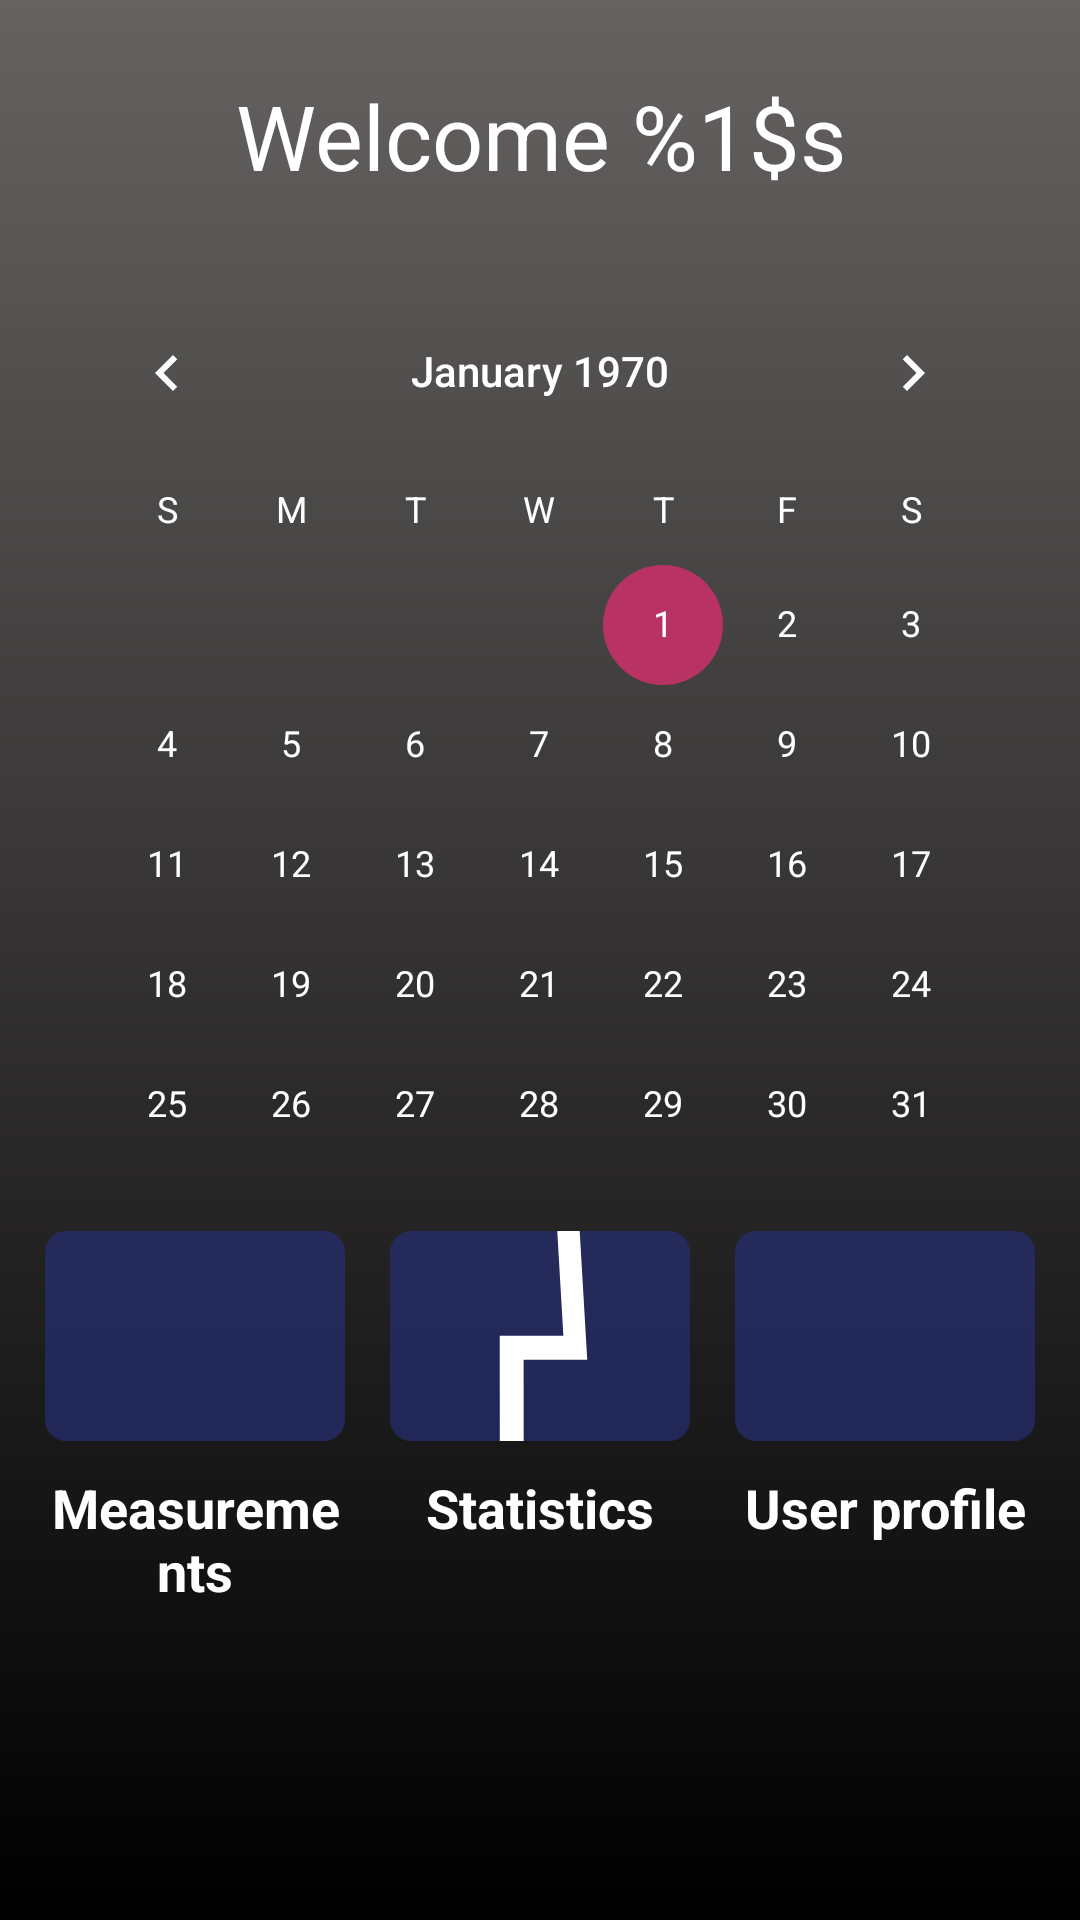

Icons on this 1080w x 1920h Android screen, each with its box as (x1, y1, x2, y2):
show chart: (390, 1231, 690, 1441)
